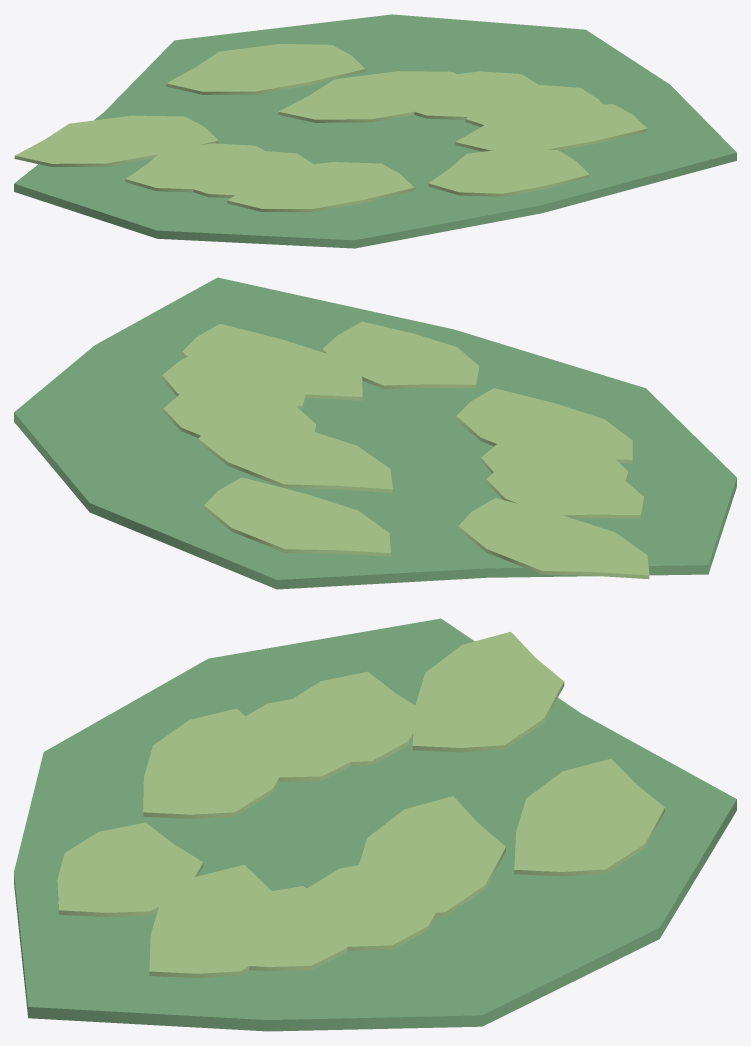
The model's file is patch-moss-clean.glb.
3 renders of one model, top to bottom at view 1: azimuth 30°, elevation 25°; view 2: azimuth 150°, elevation 25°; view 3: azimuth 270°, elevation 25°, orthographic. The views are drawn at different scales.
Parts seen in each view (by area): view 1: patch-moss-kit-clean-green, patch-moss-kit-clean-leaf; view 2: patch-moss-kit-clean-green, patch-moss-kit-clean-leaf; view 3: patch-moss-kit-clean-green, patch-moss-kit-clean-leaf.
Boxes of the visible parts, x1,y1,x2,y2 form: patch-moss-kit-clean-green: [14, 14, 736, 248]; patch-moss-kit-clean-leaf: [14, 44, 647, 212]; patch-moss-kit-clean-green: [14, 277, 736, 589]; patch-moss-kit-clean-leaf: [162, 321, 649, 579]; patch-moss-kit-clean-green: [14, 618, 736, 1031]; patch-moss-kit-clean-leaf: [57, 631, 664, 977].
Size of the model in its own units: 2.66 by 0.0485 by 2.02.
